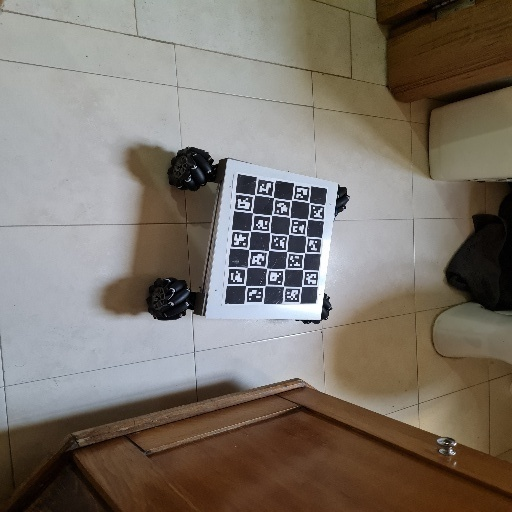Omniwheel: (146, 147, 350, 326)
